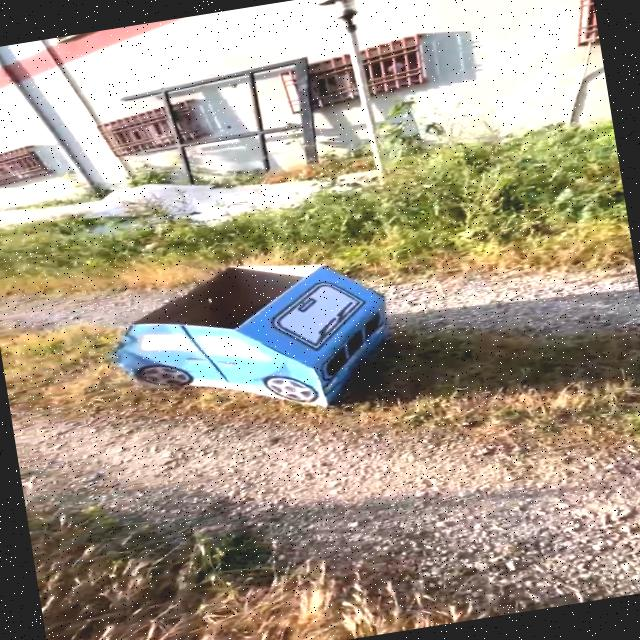blue_car: (70, 217, 451, 453)
